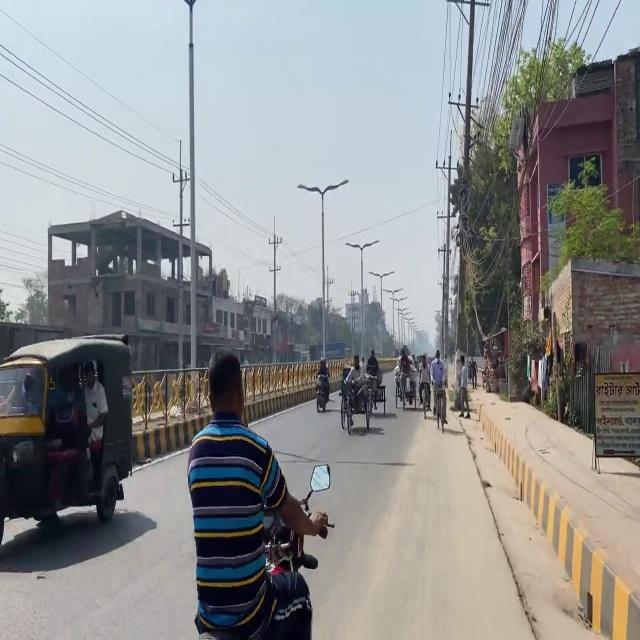Construction-barrier: (456, 410, 539, 638), (534, 490, 640, 630)
Fallen-tree: (250, 462, 334, 639), (314, 373, 331, 412)
Garbage: (593, 371, 639, 458)
Garbage-bin: (186, 348, 330, 639)
Pothole: (451, 381, 640, 640)
Traffic-cone: (0, 333, 134, 545)
